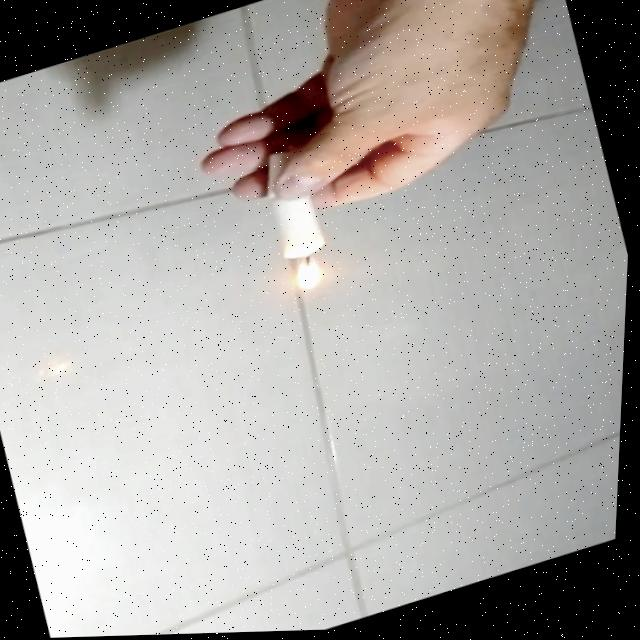Fire: (289, 256, 330, 297)
